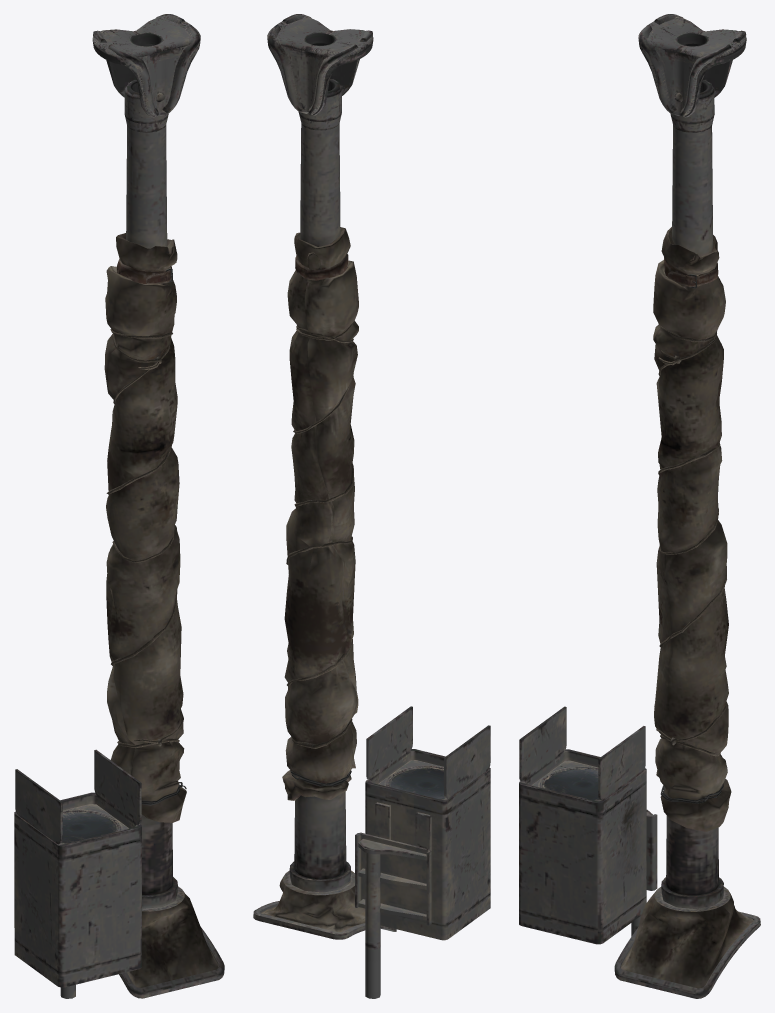
Rendered from Gun_01.glb.
3 views of the same model, side by side, from view 1: azimuth 30°, elevation 25°; view 2: azimuth 150°, elevation 25°; view 3: azimuth 330°, elevation 25° (orthographic).
Visible parts, largest first — view 1: set_0_group_0; view 2: set_0_group_0; view 3: set_0_group_0.
Boxes of the visible parts, x1=… form: set_0_group_0: x1=14, y1=14, x2=224, y2=998; set_0_group_0: x1=253, y1=14, x2=490, y2=998; set_0_group_0: x1=519, y1=14, x2=760, y2=998.
Size of the model in its own units: 0.7549 by 3.87 by 0.5097.
1 material, 1 textured.
